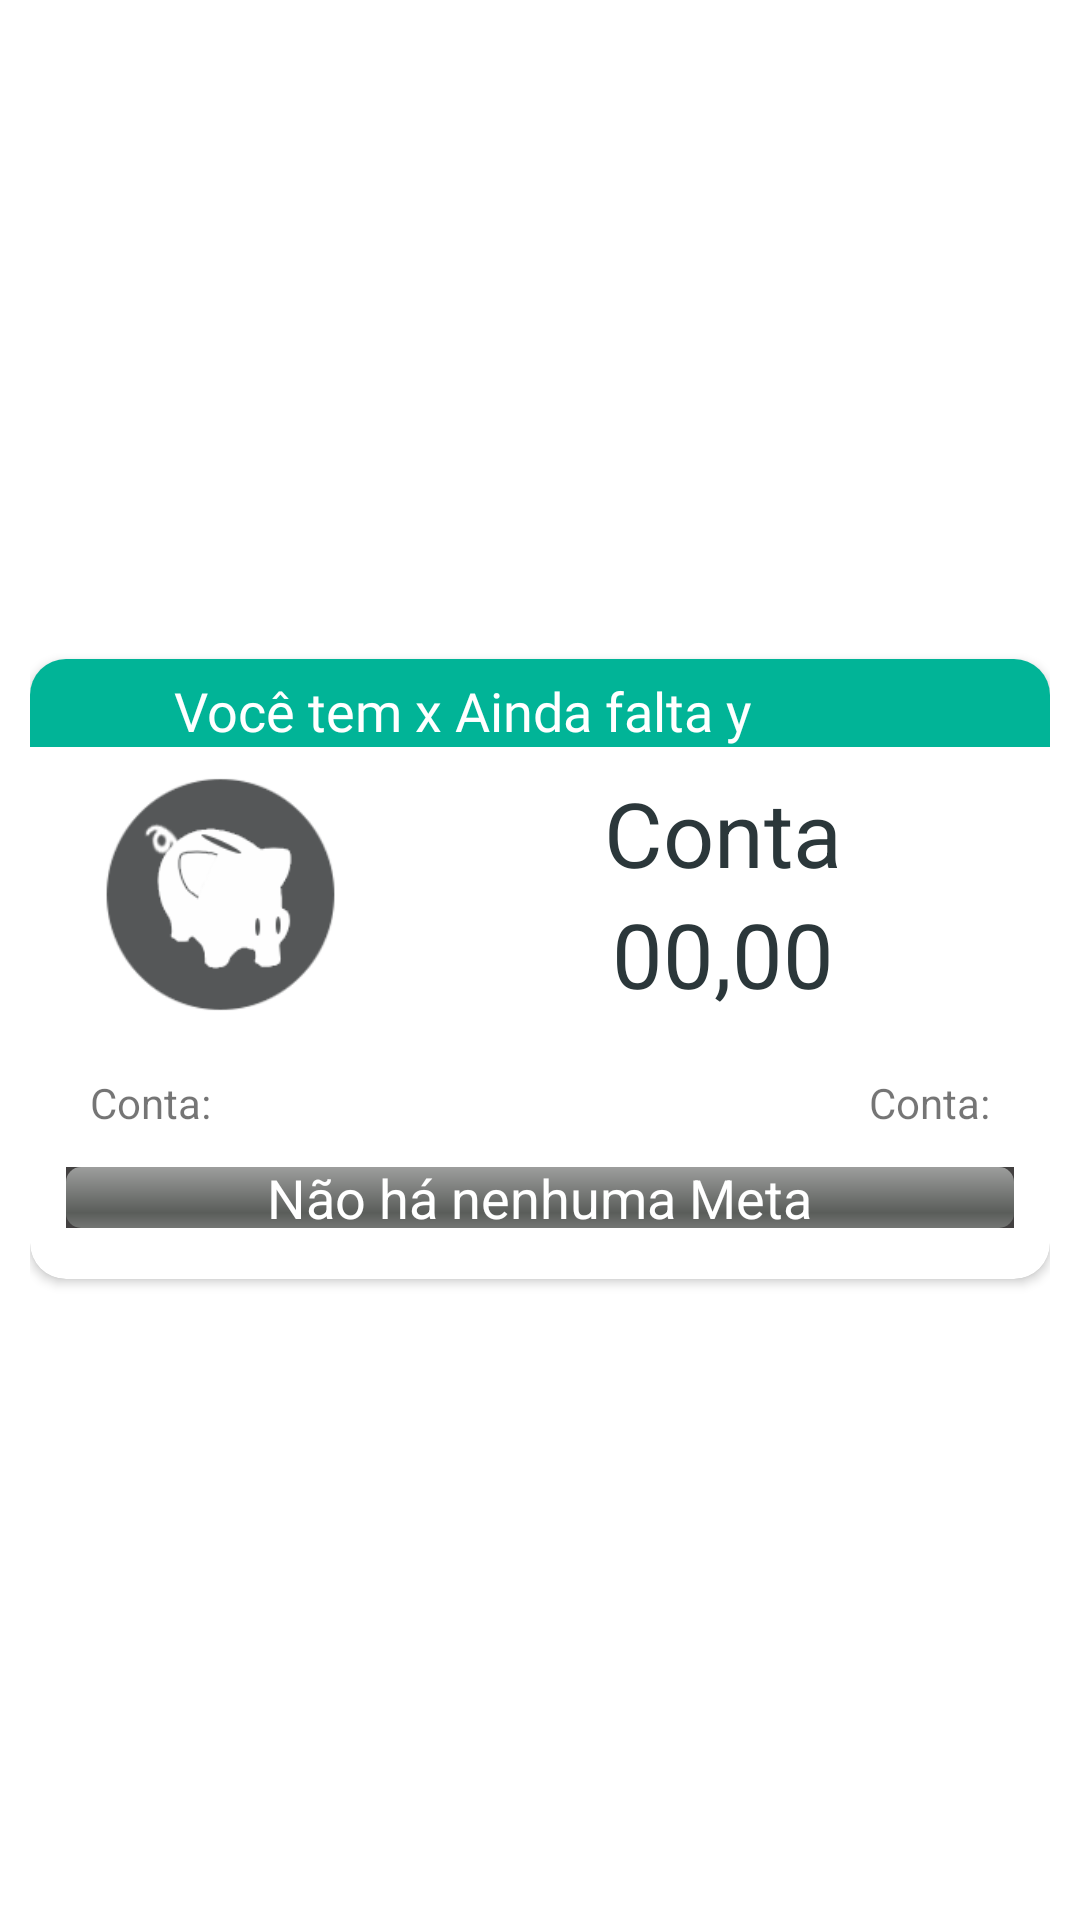

Named icons in this screenshot (1080px x 1920px) and their bounding boxes, (x1, y1, x2, y2):
nonebank: (106, 779, 335, 1010)
